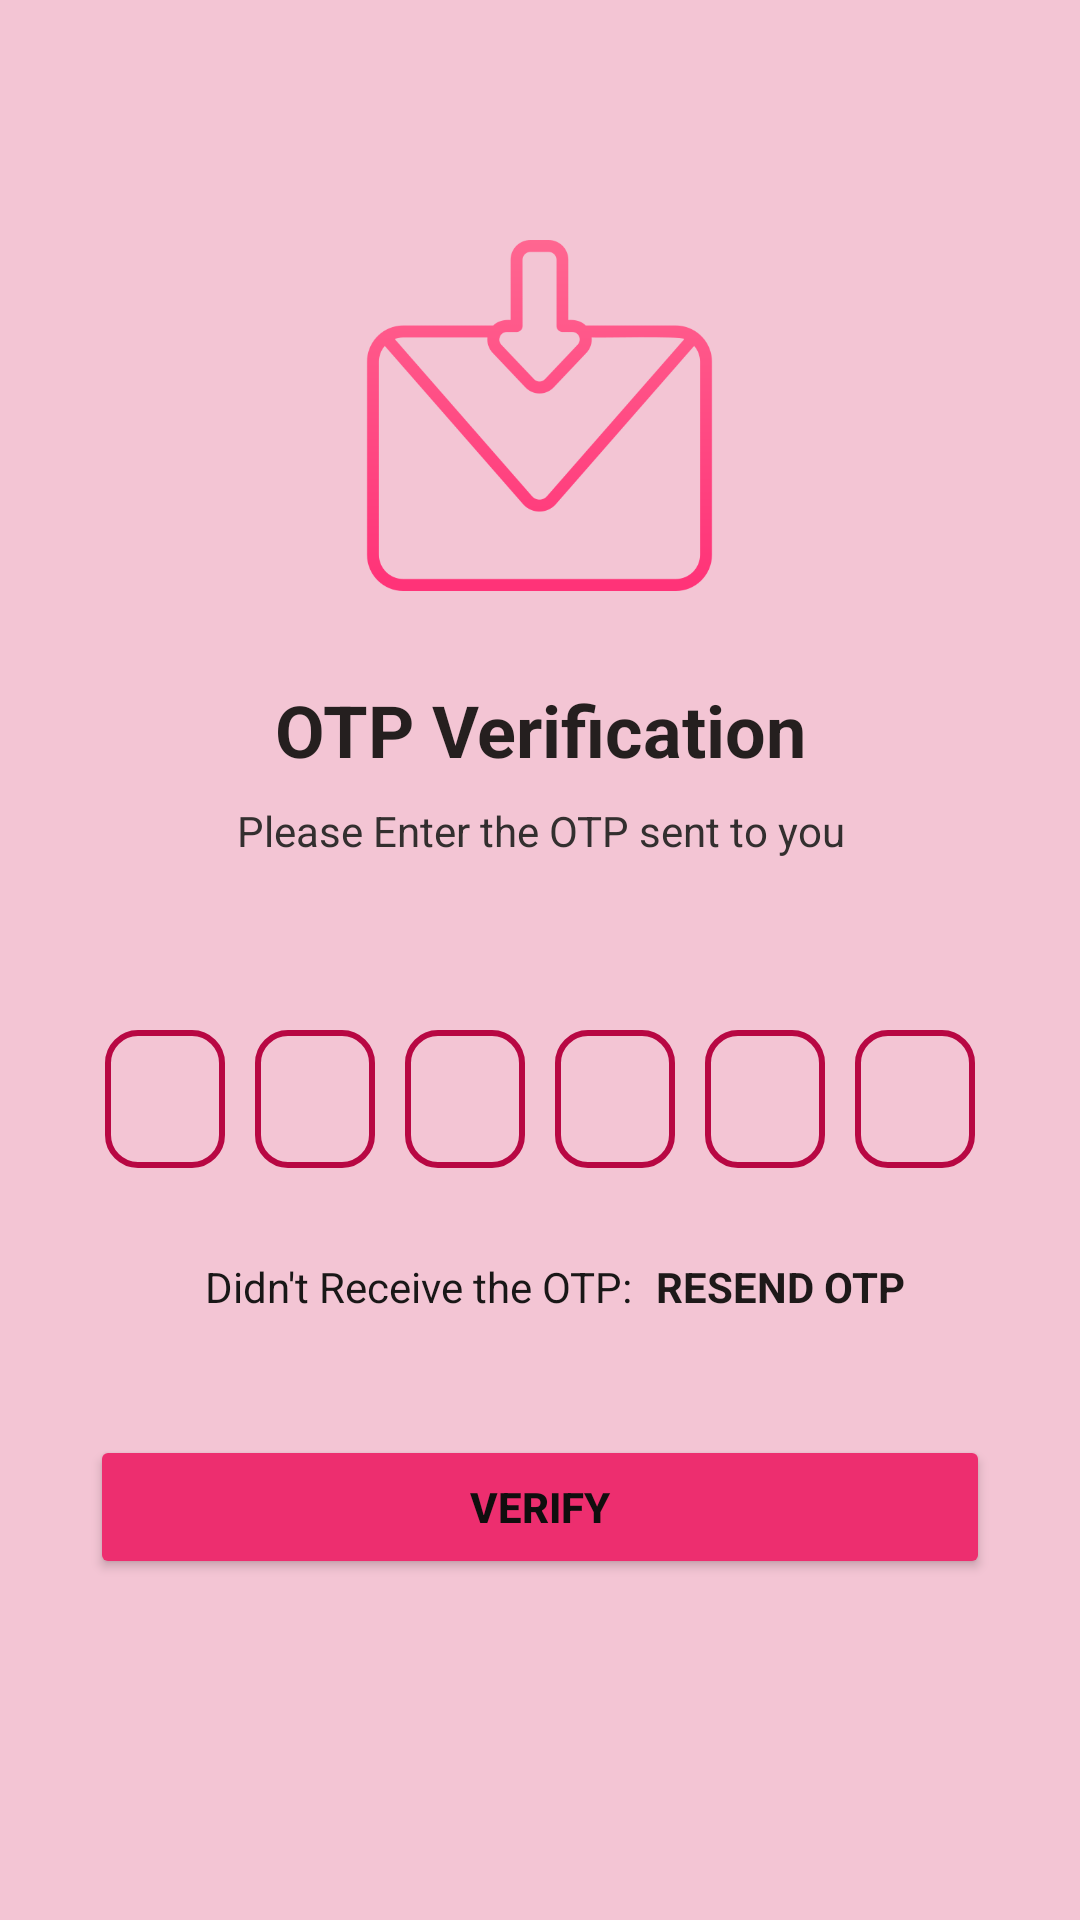

Icons on this 1080w x 1920h Android screen, each with the point to tap as (x,y):
receive: (539,415)
